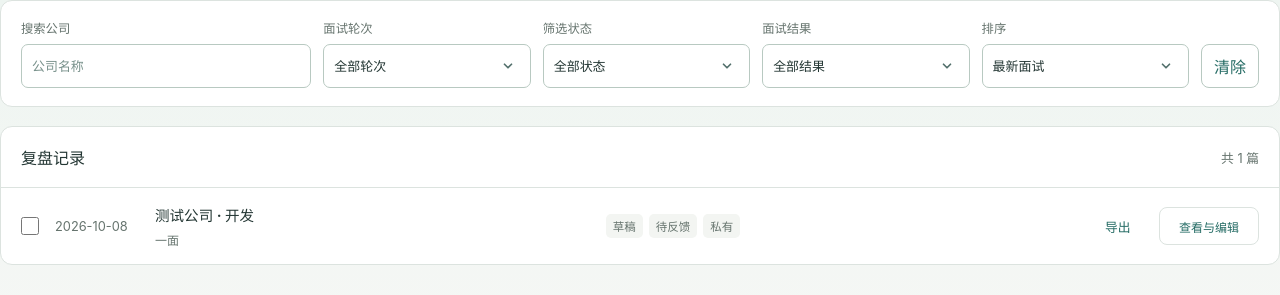
Test: filters private review rows and restores them
Expected: the button "查看与编辑" is shown, [1159,207,1259,245]
Step 1. Type "其他公司" into the field labelled "搜索公司" → (166, 66), box [21,44,311,88]
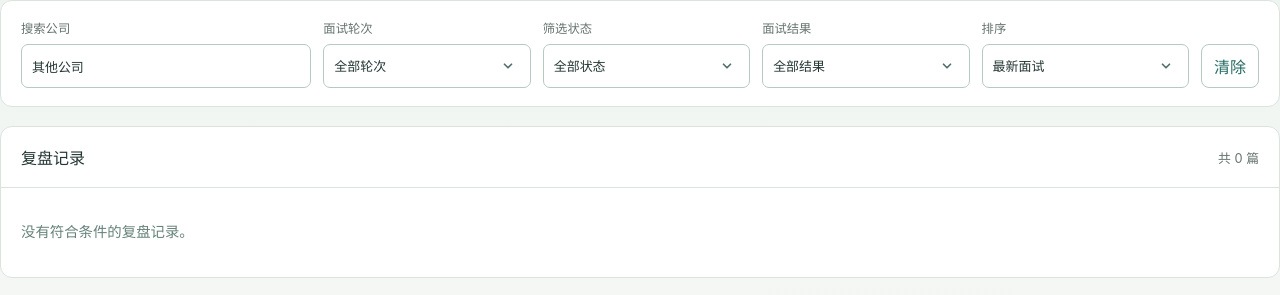
Result: the button "查看与编辑" is gone
Result: the text "没有符合条件的复盘记录。" is shown at [21,223,194,240]
Step 2. Click the button "清除" → (1230, 66), box [1201,44,1259,88]
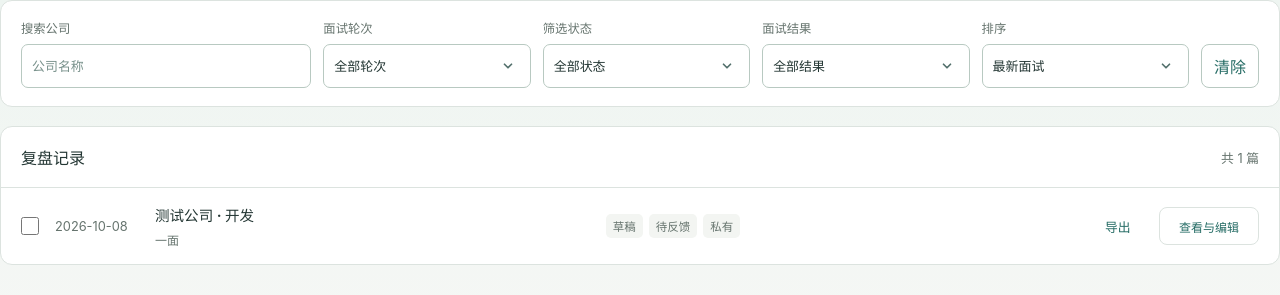
Result: the button "查看与编辑" is shown at [1159,207,1259,245]
